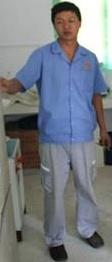boots: (81, 230, 104, 247), (49, 244, 68, 262)
hard-hat: (1, 0, 1, 0)
